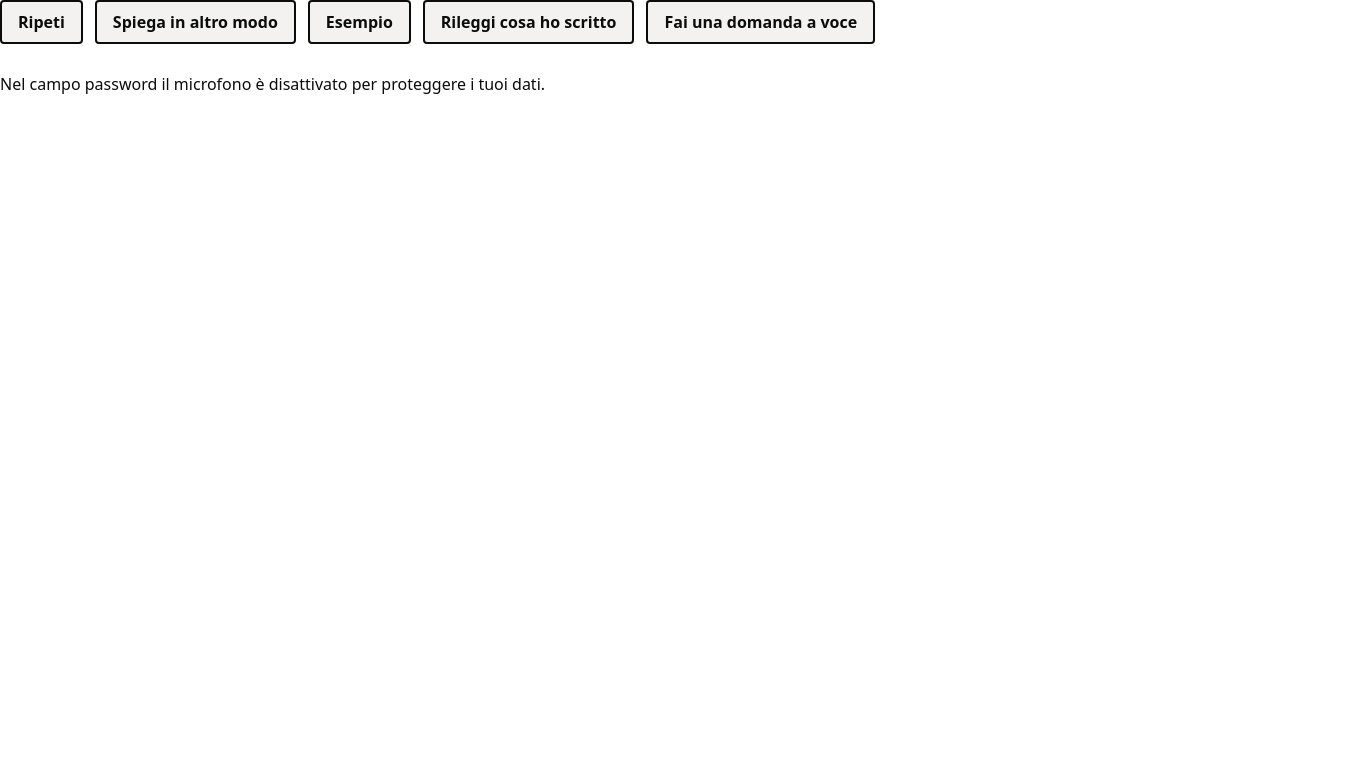
it: AssistPanelComponent › Rileggi on the password › asks first and moves focus to the question, without reading the password
This screenshot has width=1366, height=768.
Click the button "Rileggi cosa ho scritto" at (529, 22), box [423,0,634,44]
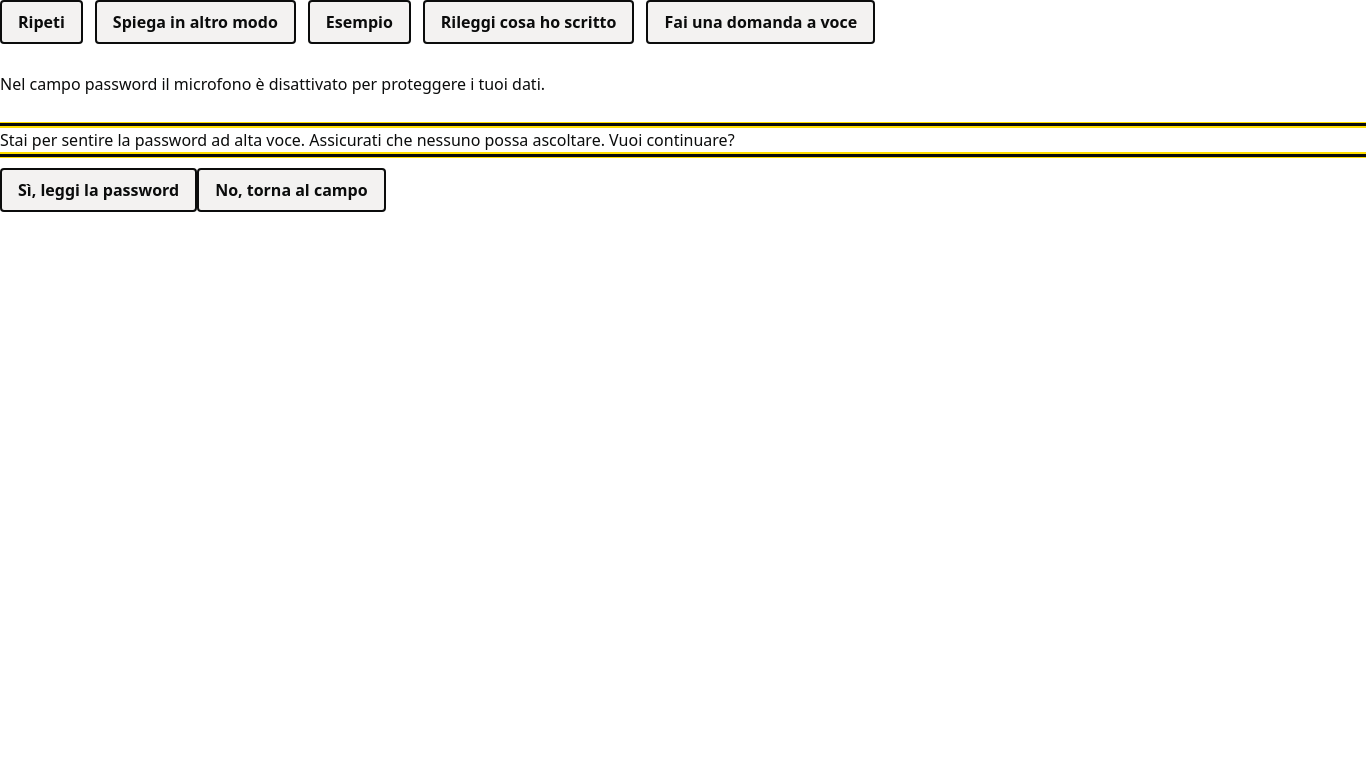
Check: the text "Stai per sentire la password ad alta voce." is shown, box [0,129,735,151]
